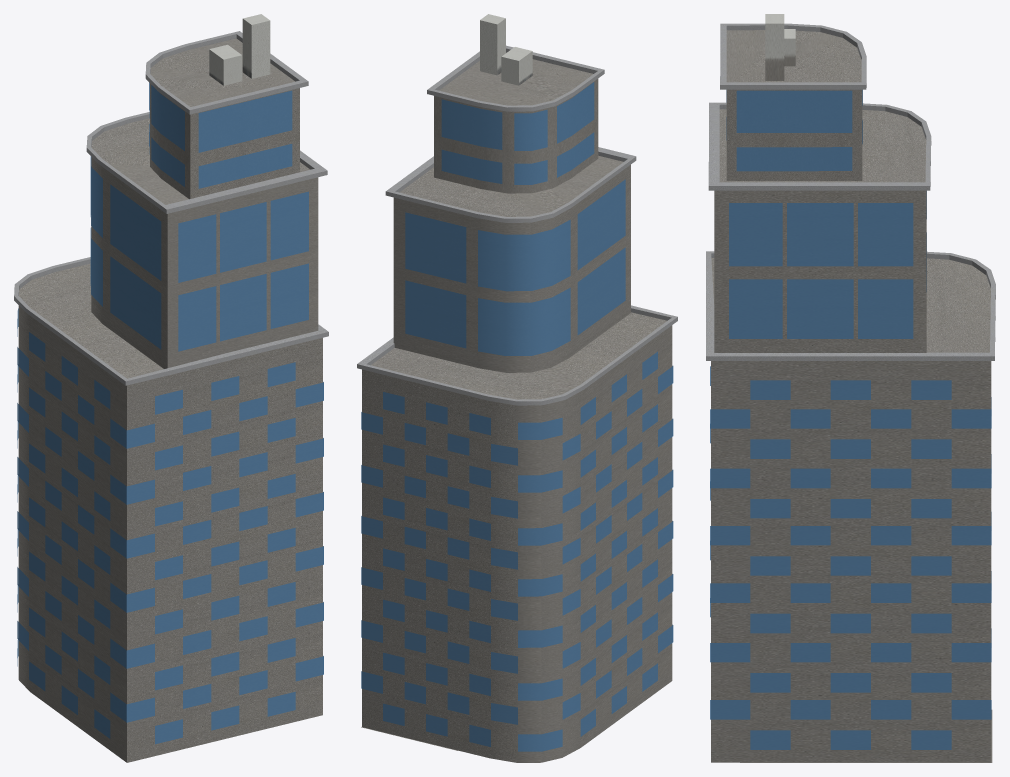
Rendered from House_5.fbx.
The picture shows the model from 3 angles, left to right: view 1: azimuth 30°, elevation 25°; view 2: azimuth 150°, elevation 25°; view 3: azimuth 270°, elevation 25°; orthographic projection. The views are drawn at different scales.
Parts seen in each view (by area): view 1: House_5, GlassLighted; view 2: House_5, GlassLighted; view 3: House_5, GlassLighted.
Part boxes in pixels (box(x1,y1,x2,y2)): House_5: box(14, 14, 328, 762); GlassLighted: box(17, 82, 323, 744); House_5: box(357, 14, 677, 762); GlassLighted: box(361, 82, 673, 751); House_5: box(706, 14, 995, 762); GlassLighted: box(710, 89, 991, 749).
Size of the model in its own units: 101 by 323 by 117.
